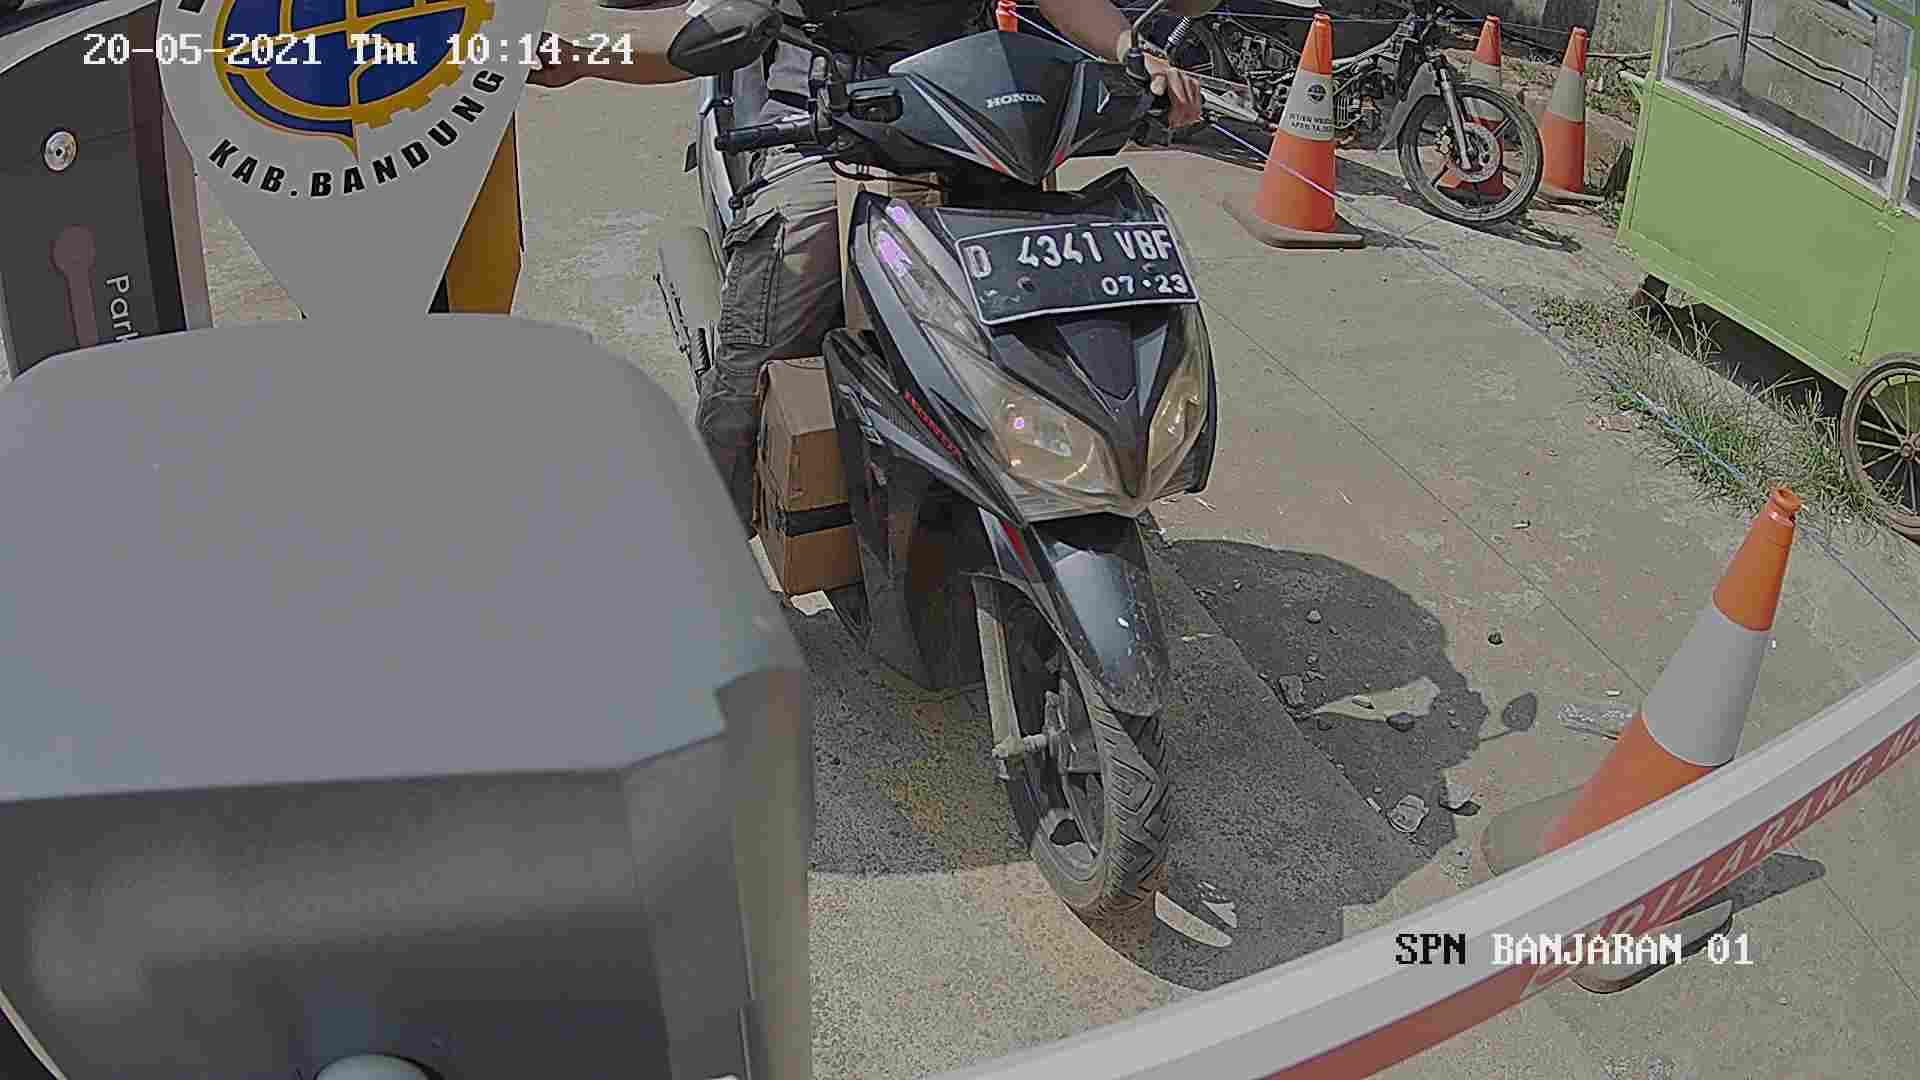motor: (671, 69, 1308, 957)
